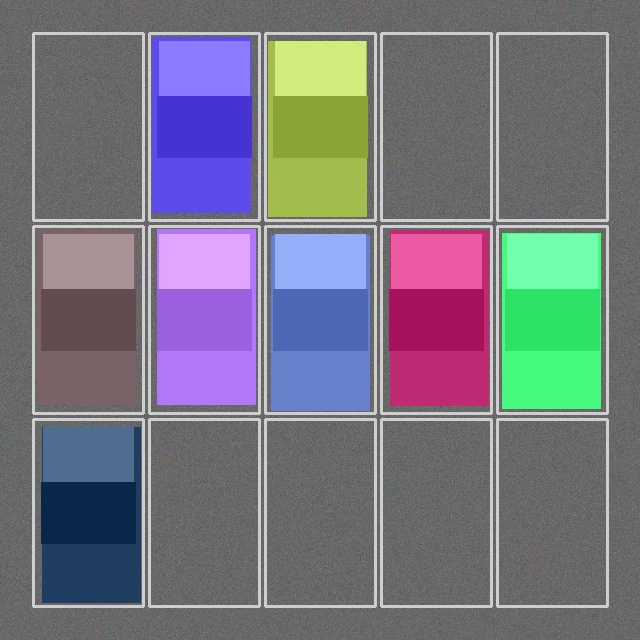space-empty: (35, 35, 141, 218), (383, 35, 489, 218), (499, 35, 605, 218), (151, 421, 257, 604), (267, 421, 373, 604), (383, 421, 489, 604), (499, 421, 605, 604)
space-occupied: (151, 35, 257, 218), (267, 35, 373, 218), (35, 228, 141, 411), (151, 228, 257, 411), (267, 228, 373, 411), (383, 228, 489, 411), (499, 228, 605, 411), (35, 421, 141, 604)
